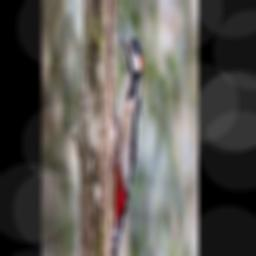Woodpecker: (111, 30, 142, 256)
